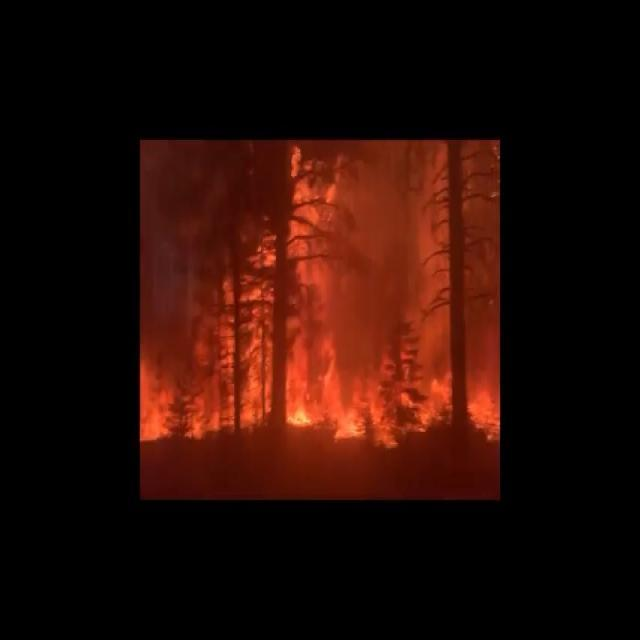Fire: (141, 155, 497, 442)
